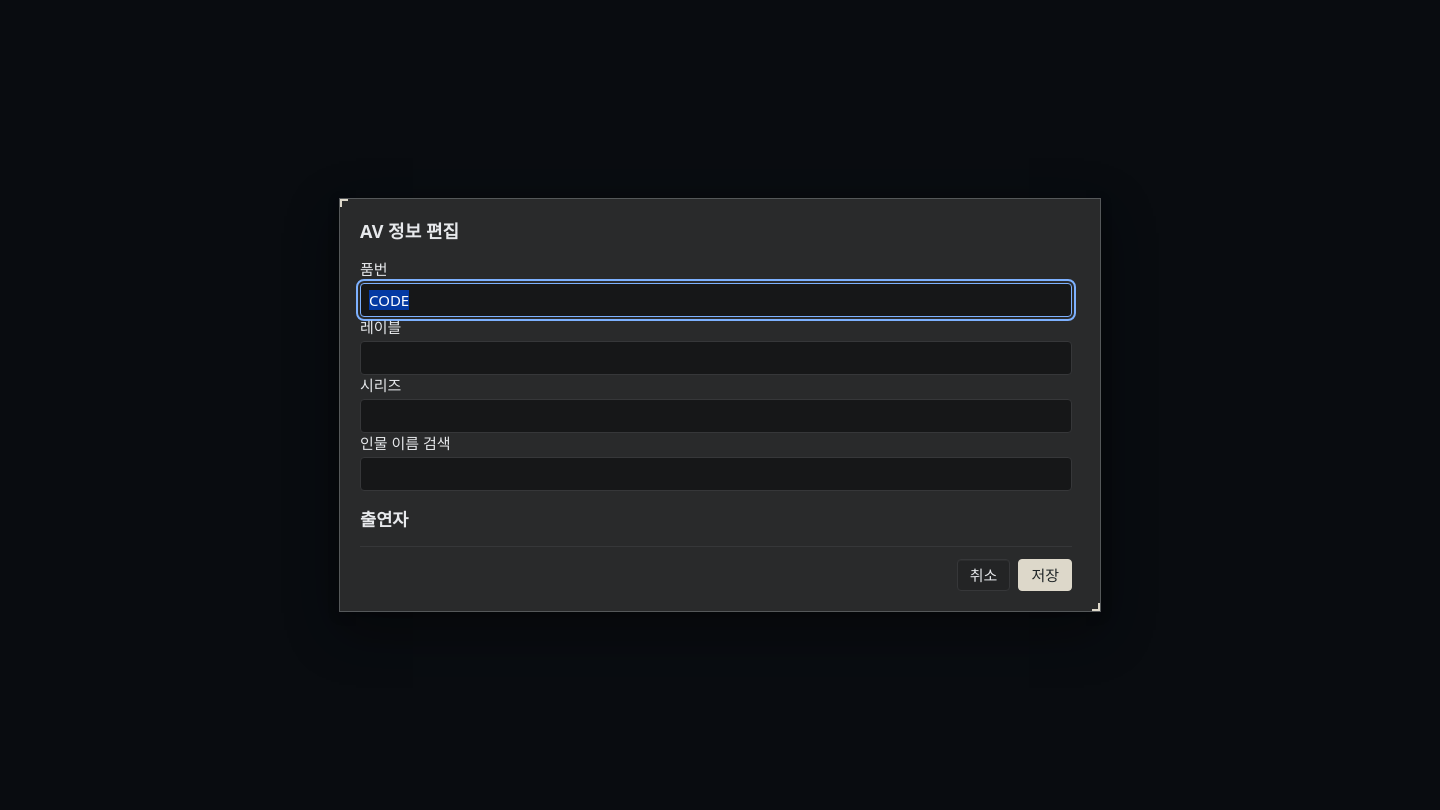
Test: retains a draft on stale save and creates people only when explicitly selected
In the field labelled "인물 이름 검색": (716, 474) [360,457,1072,491], type "이름"
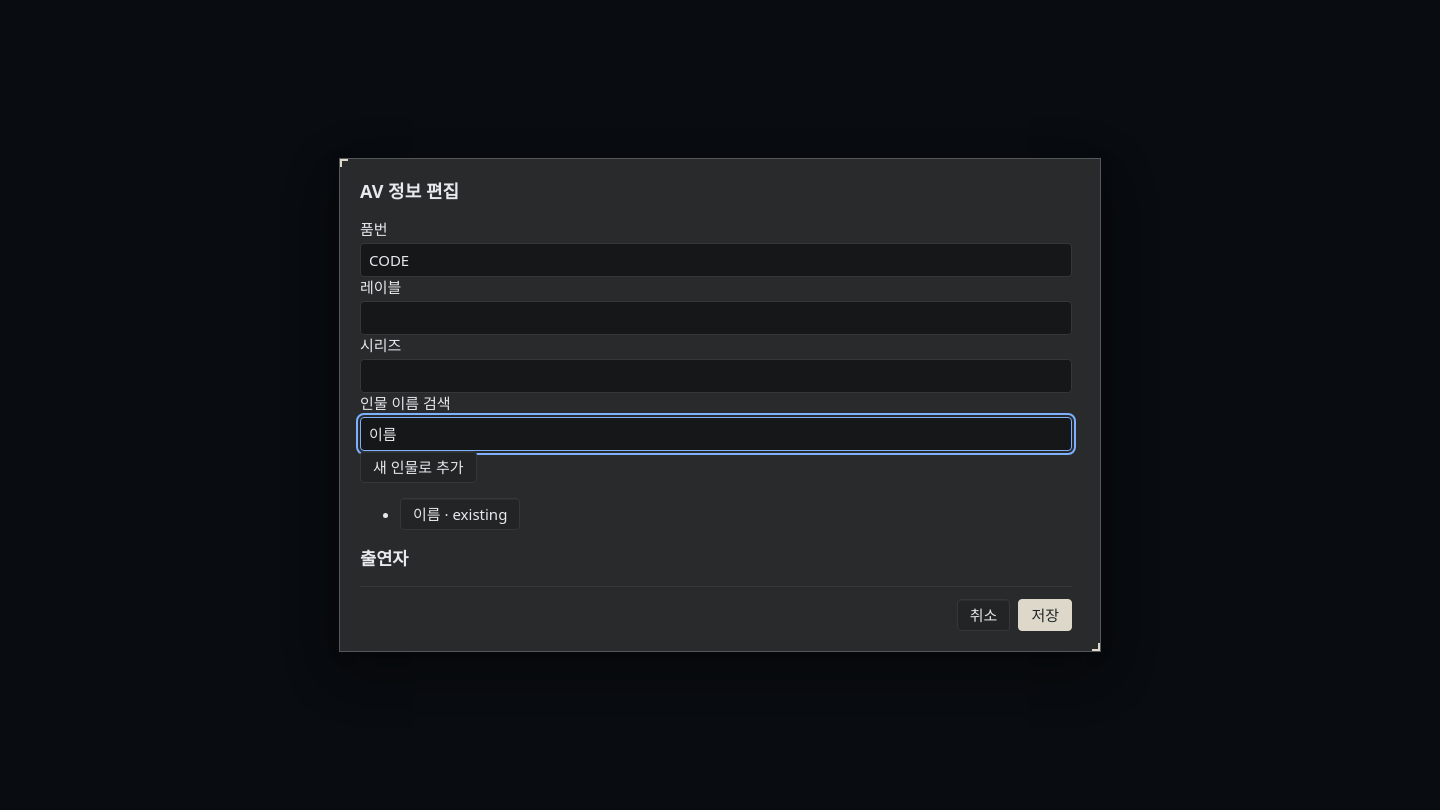
Result: the list named "기존 인물" is shown at [400,498,520,530]
Click the button "새 인물로 추가": (418, 468) [360,452,477,484]
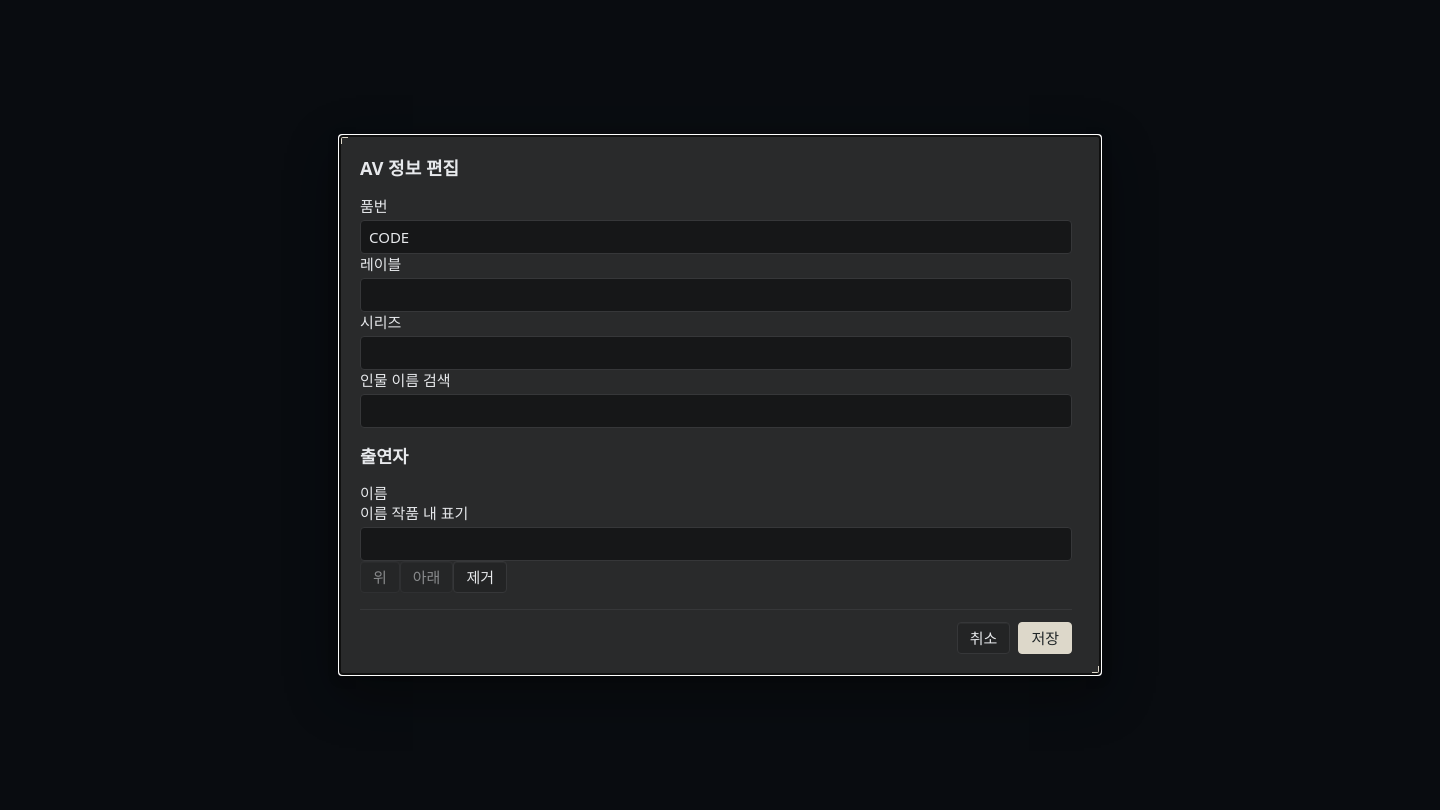
Click the button "저장": (1045, 638) [1018,622,1072,654]
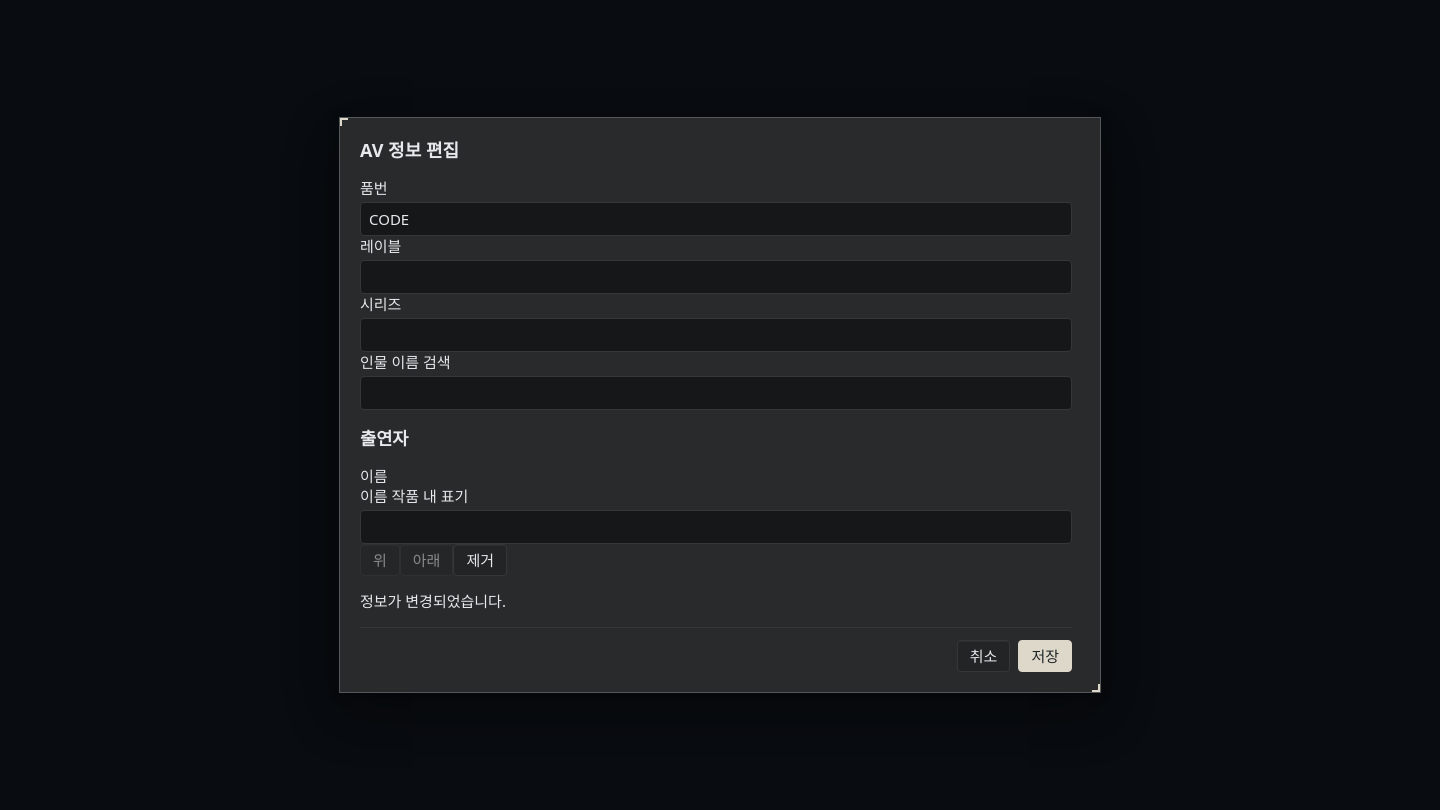
Expected: the field labelled "품번" holds "CODE", [360,202,1072,236]
Result: the message shows "정보가 변경" at [360,590,506,610]
